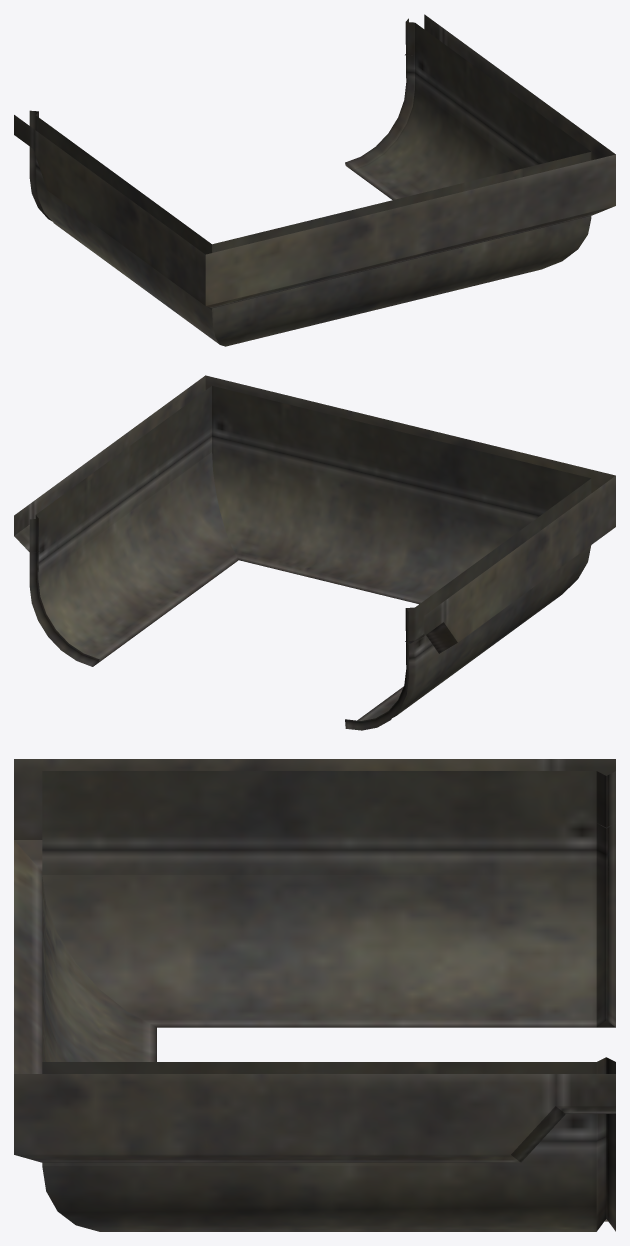
The model's file is welder_ceiling_pplant_divider_small.dae.
3 views of the same model, one above another, from view 1: azimuth 30°, elevation 25°; view 2: azimuth 150°, elevation 25°; view 3: azimuth 270°, elevation 25° (orthographic). The views are drawn at different scales.
Parts seen in each view (by area): view 1: welder_ceiling_pplant_divider_small; view 2: welder_ceiling_pplant_divider_small; view 3: welder_ceiling_pplant_divider_small.
Part boxes in pixels (<box>): welder_ceiling_pplant_divider_small: <box>14,14,615,346</box>; welder_ceiling_pplant_divider_small: <box>14,375,615,730</box>; welder_ceiling_pplant_divider_small: <box>14,759,615,1231</box>.
Bounding box in the file's own units: 1.62 × 0.5 × 1.31.
